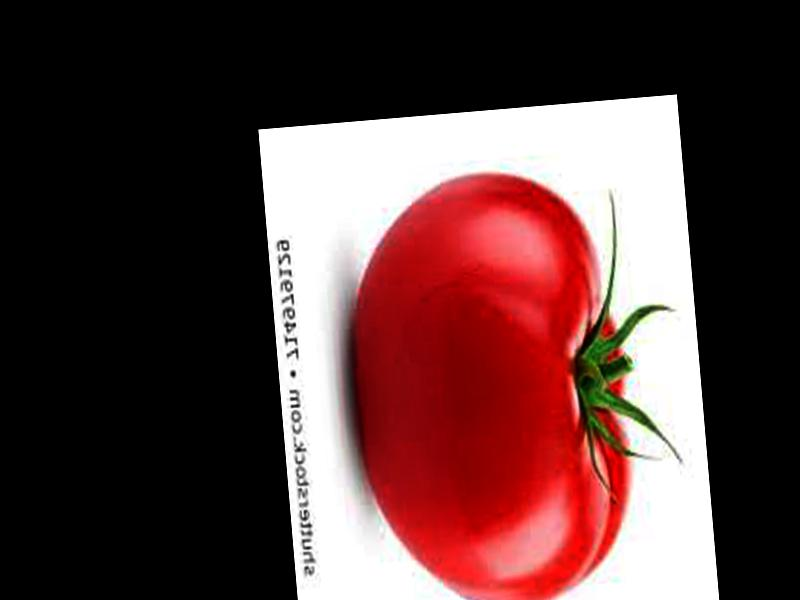Tomato: (340, 164, 638, 600)
